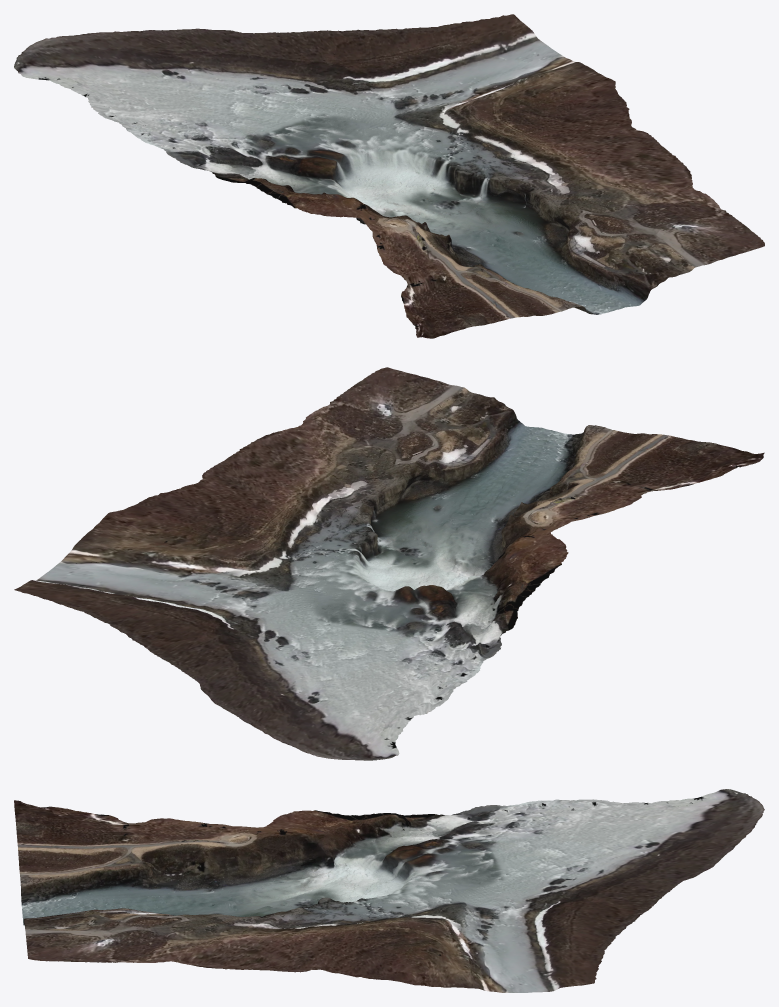
File: sf-go-afoss-waterfall-iceland-bbd6ed.glb
3 views of the same model, one above another, from view 1: azimuth 30°, elevation 25°; view 2: azimuth 150°, elevation 25°; view 3: azimuth 270°, elevation 25° (orthographic). The views are drawn at different scales.
Visible parts, largest first — view 1: Object_2; view 2: Object_2; view 3: Object_2.
Part boxes in pixels (x1,y1,x2,y2): Object_2: (14, 14, 764, 338); Object_2: (14, 367, 764, 760); Object_2: (14, 789, 764, 992).
Size of the model in its own units: 167 by 12.63 by 267.
Materials: 1 (1 with a texture image).
